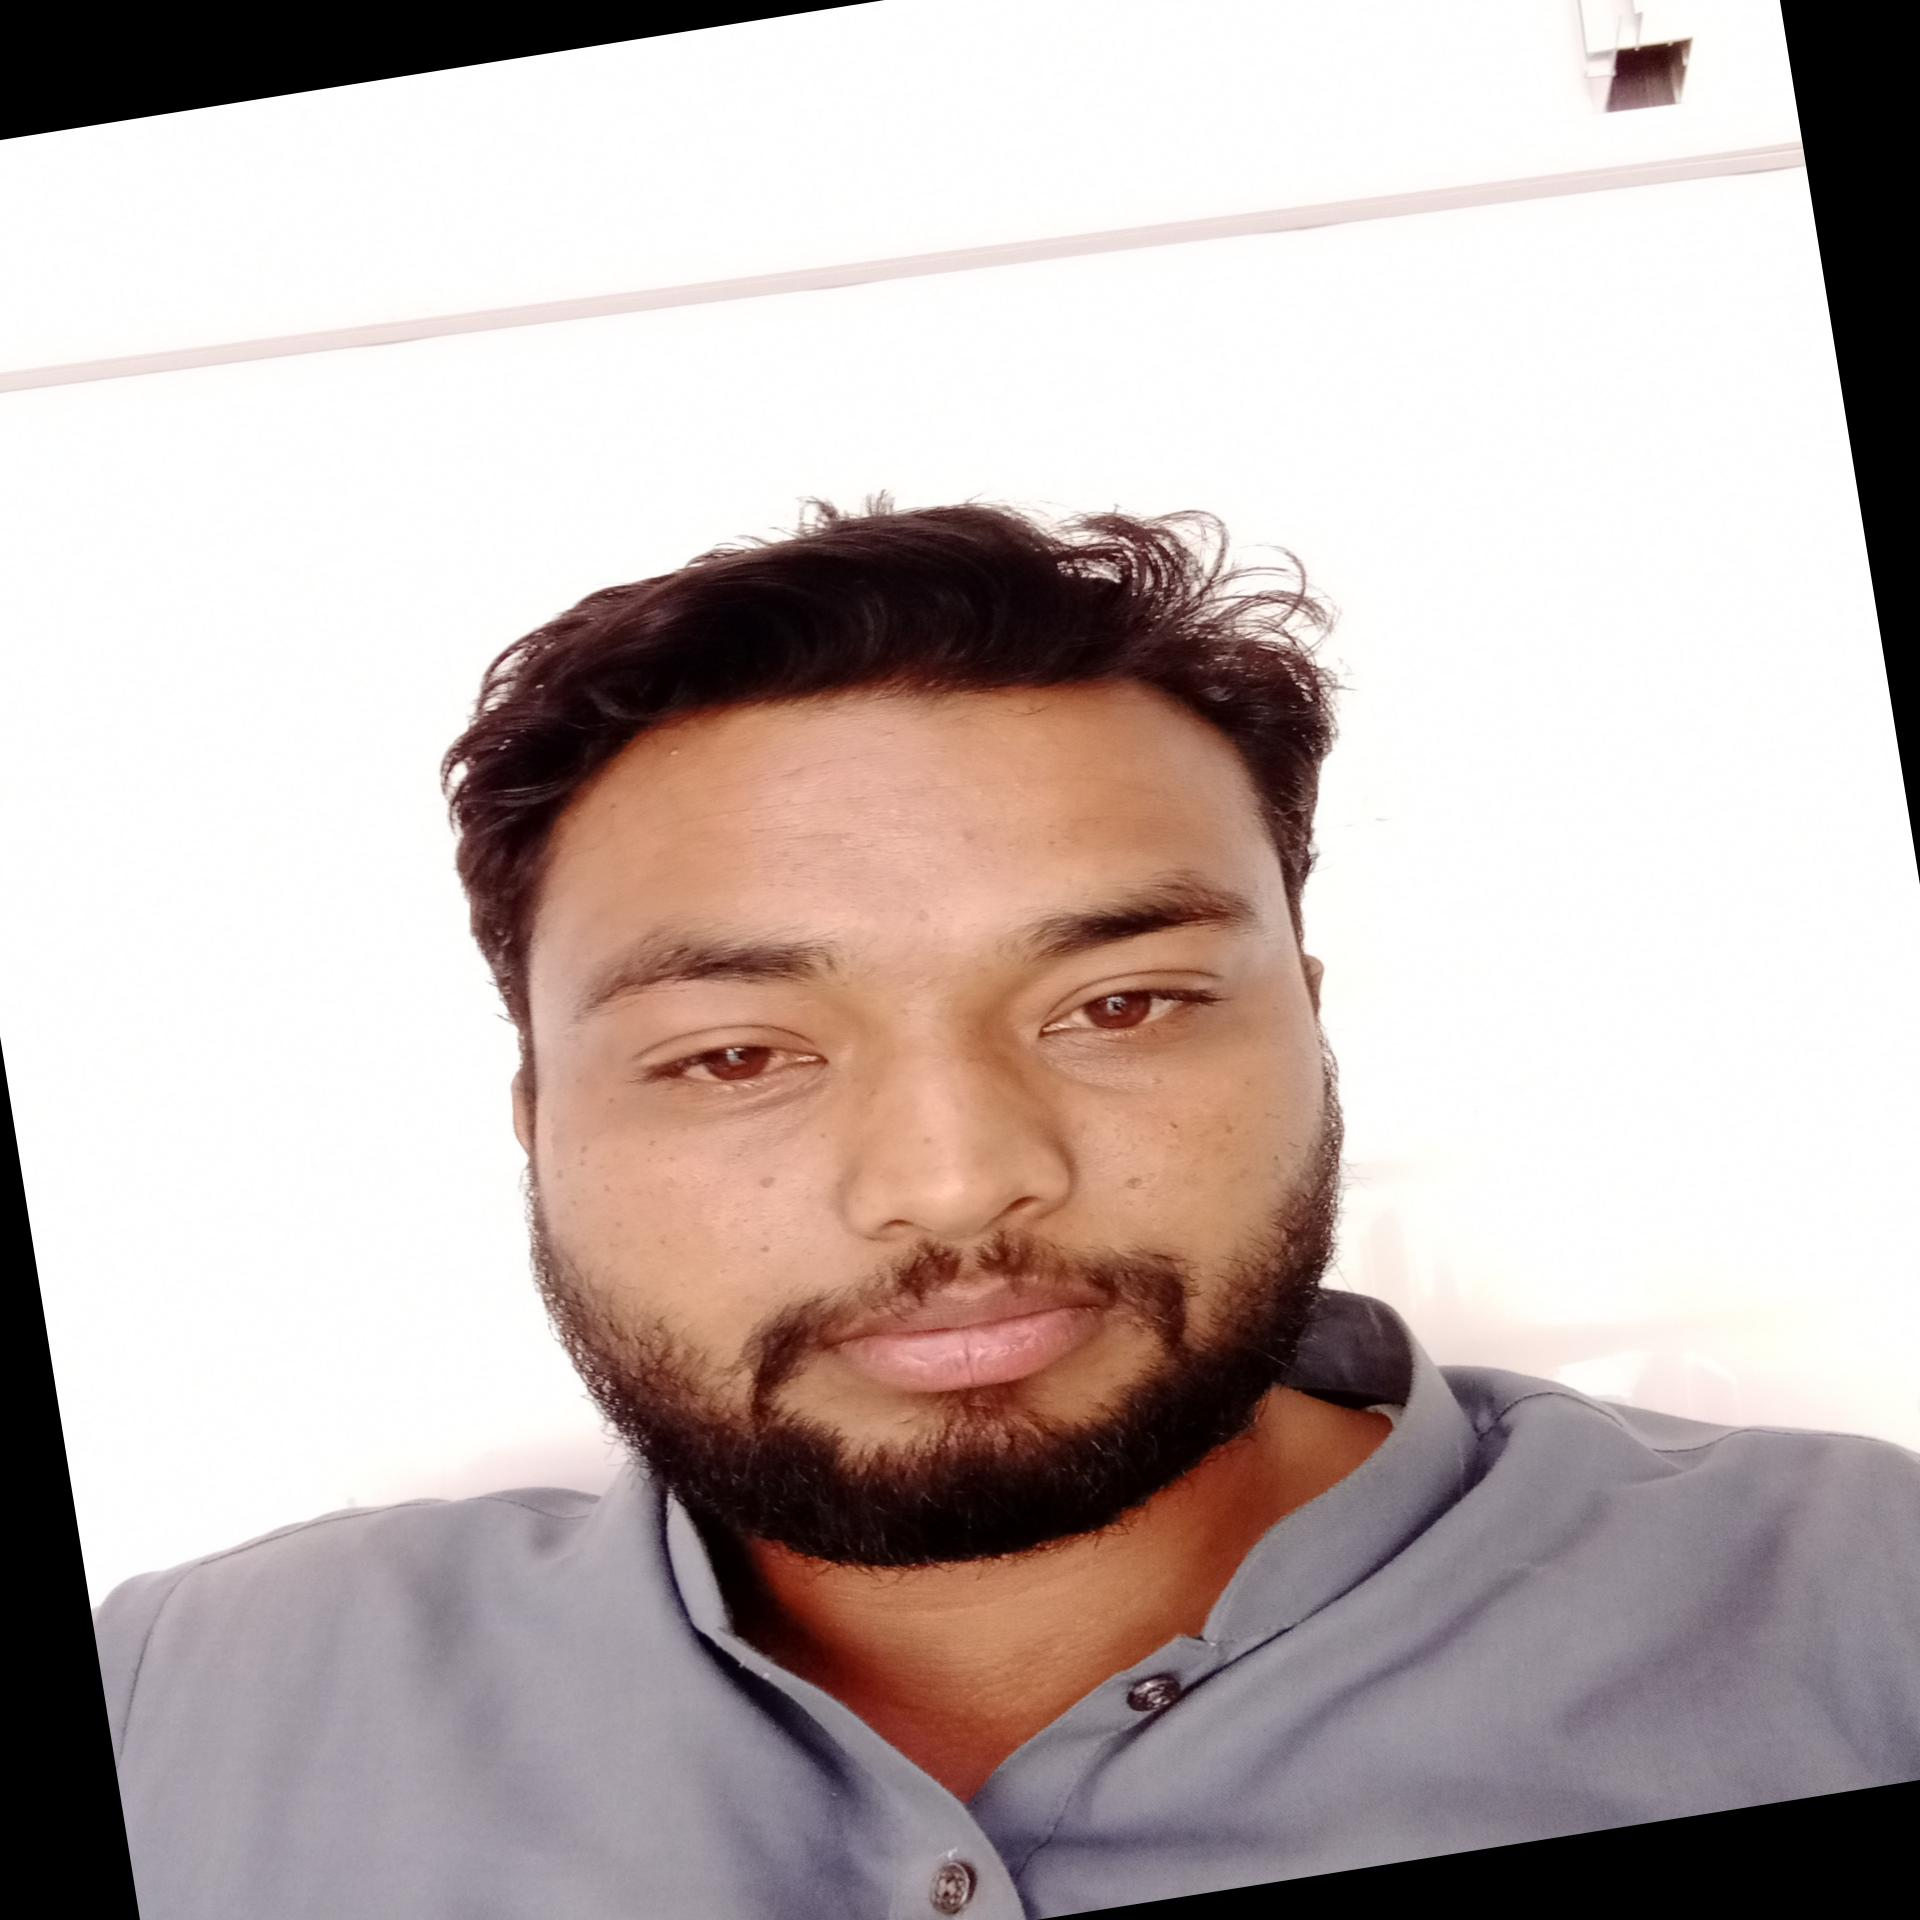Acne: (953, 814, 981, 855), (665, 733, 691, 763)
Blackhead: (1115, 1166, 1173, 1204), (640, 1146, 686, 1178), (570, 1139, 601, 1173), (909, 1124, 946, 1150), (754, 1173, 789, 1197), (1262, 1099, 1289, 1131), (758, 1236, 784, 1266), (1218, 1111, 1240, 1148), (816, 1124, 844, 1150), (1164, 1115, 1187, 1146), (601, 1215, 635, 1236), (898, 997, 925, 1023), (550, 1162, 580, 1185), (638, 1131, 670, 1152), (860, 1085, 897, 1102), (649, 1231, 672, 1255), (1276, 1138, 1305, 1155), (600, 1178, 621, 1201), (1145, 1069, 1166, 1092), (1078, 1115, 1099, 1138), (600, 1088, 617, 1109), (568, 1196, 585, 1211)
